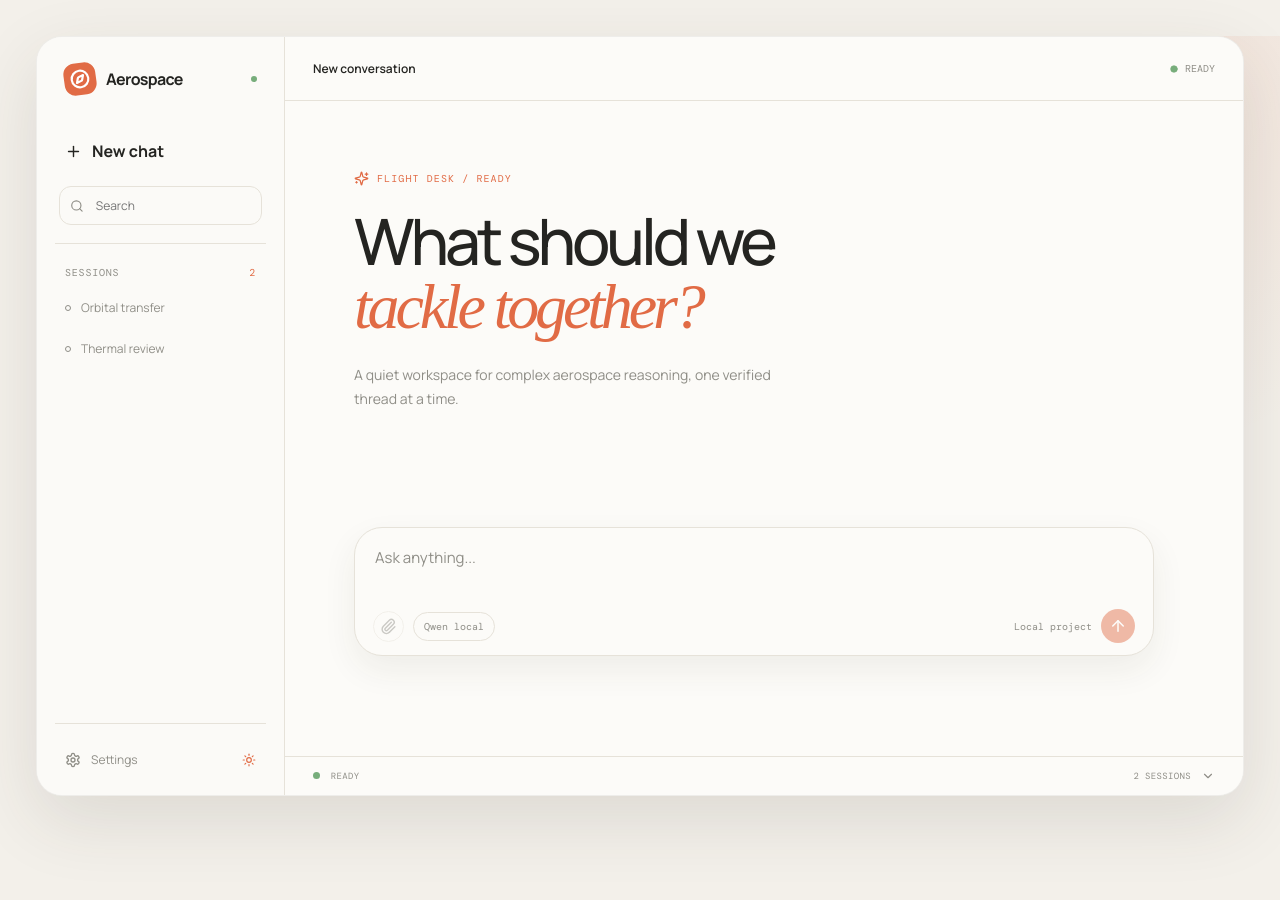
Test: session shell › filters local sessions from the sidebar
Expected: the text "Orbital transfer" is shown, left=81, top=299, right=165, bottom=316
Type "thermal" into the field named "Search sessions". click: (172, 206)
box: left=94, top=196, right=251, bottom=215
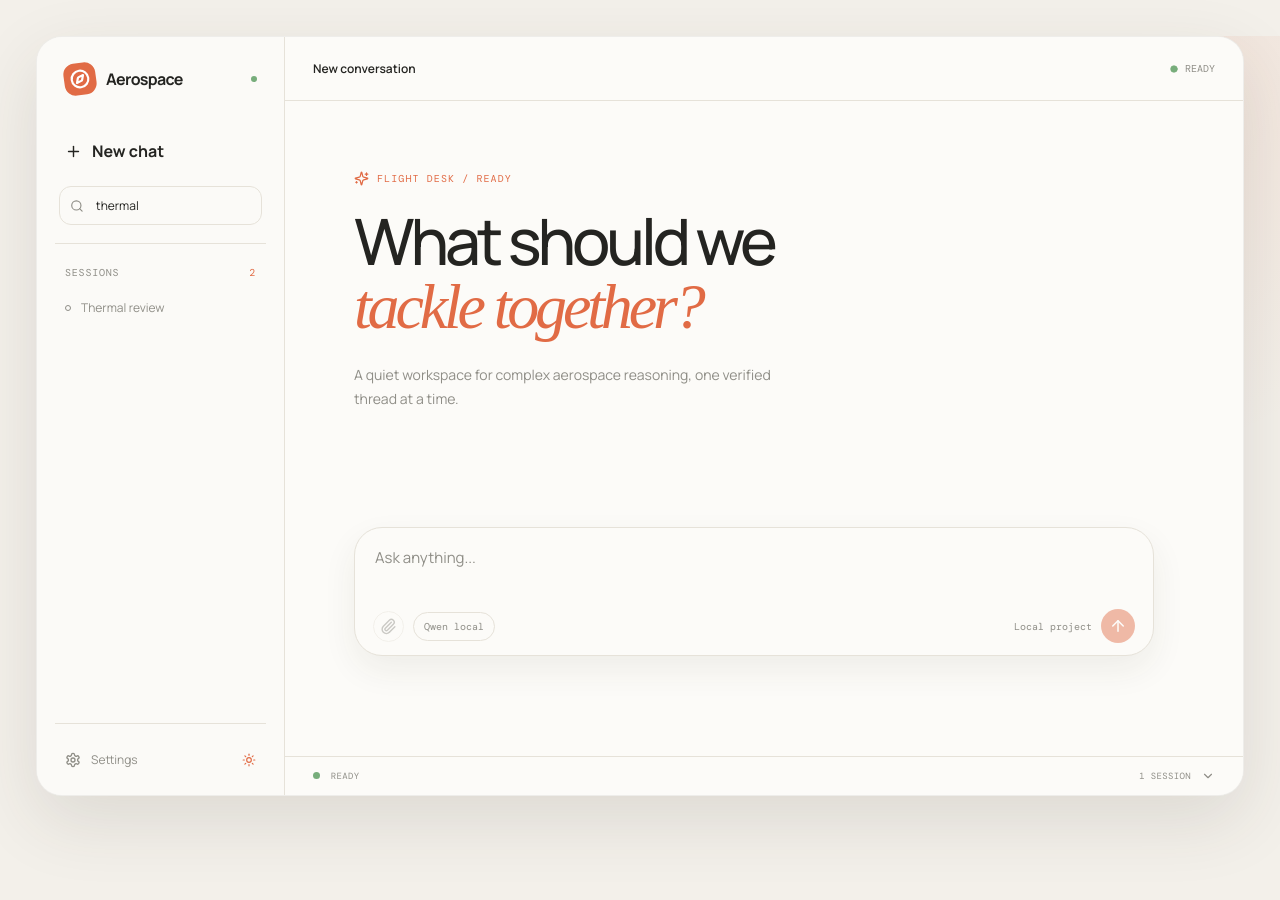
Expected: the text "Thermal review" is shown, left=81, top=299, right=164, bottom=316
Expected: the button "Orbital transfer" is gone
